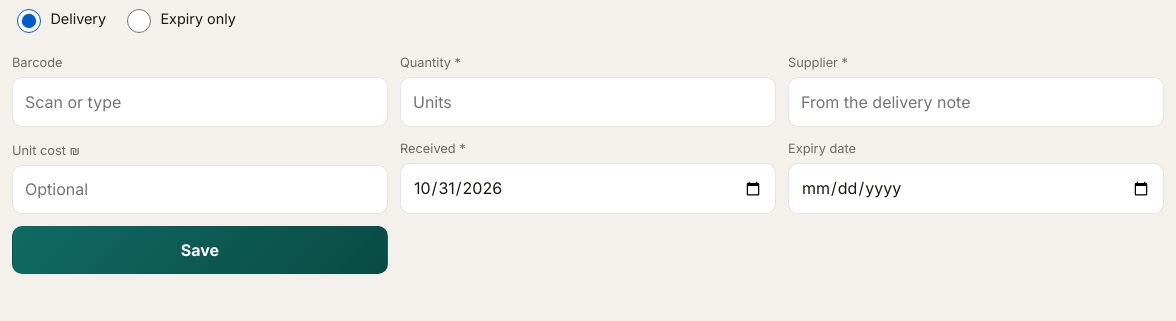
Test: ReceivingCaptureForm › warns but still allows a barcode that is not in the catalog
This screenshot has width=1176, height=321.
Type "999" into the field labelled "Barcode" at (200, 102), box [12, 77, 388, 127]
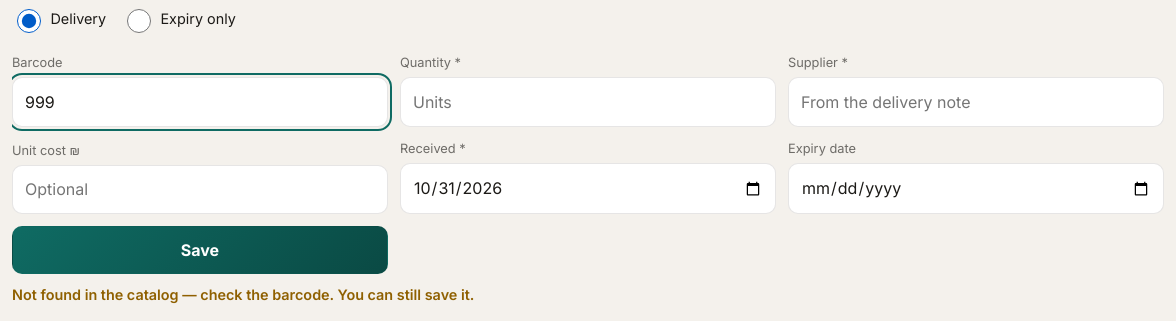
Expected: the text "Not found in the catalog" is shown, [12, 286, 474, 303]
